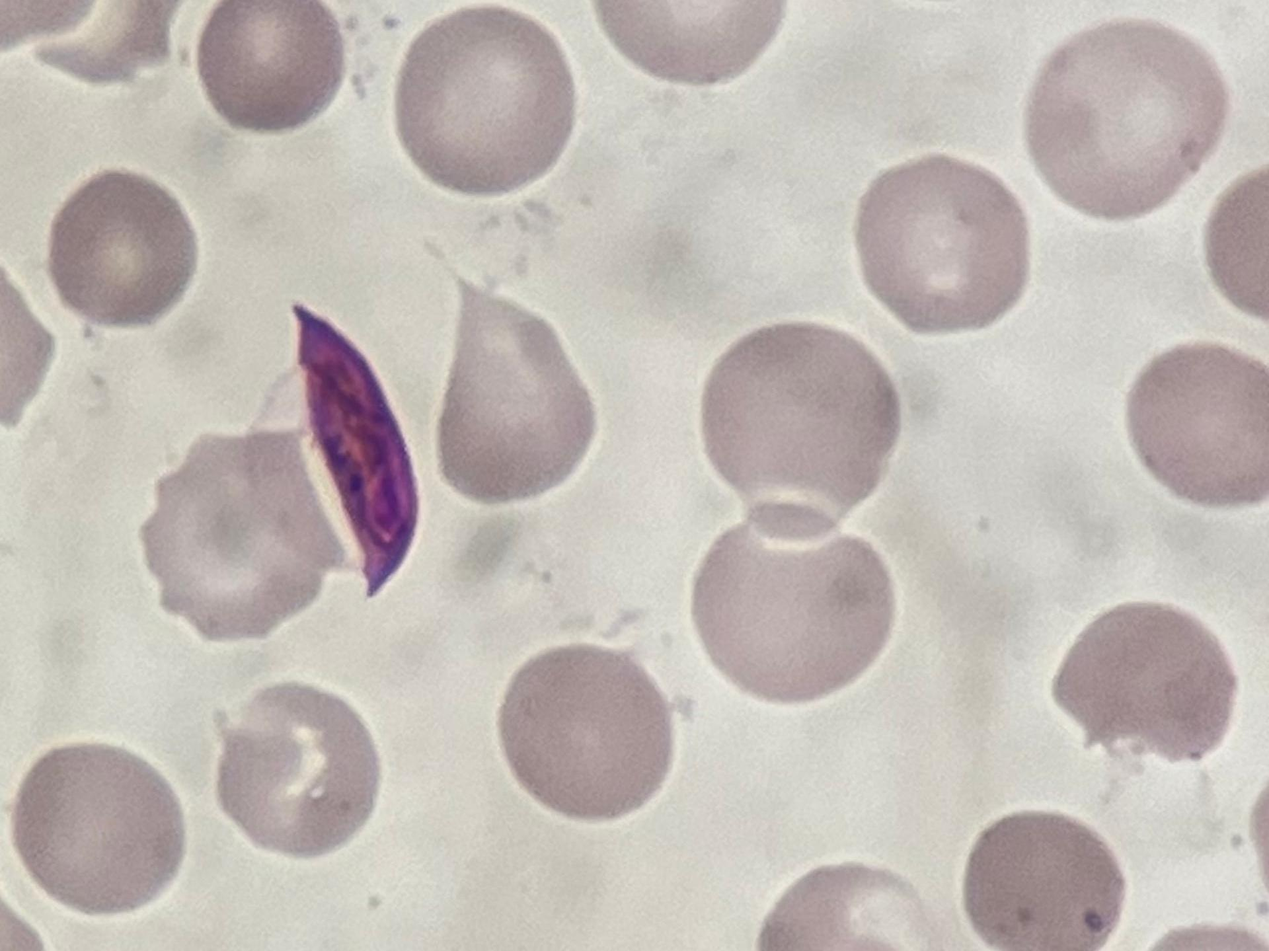Infected: (241, 299, 421, 598)
Uninfected: (140, 430, 346, 646), (697, 323, 902, 540), (691, 501, 898, 703), (1026, 19, 1226, 221), (435, 280, 598, 505), (395, 5, 577, 195), (12, 739, 187, 917), (499, 645, 672, 822), (1049, 600, 1235, 762), (861, 157, 1025, 335), (218, 686, 383, 855), (1125, 342, 1269, 509), (48, 169, 194, 324), (962, 813, 1124, 951), (200, 0, 347, 135)
